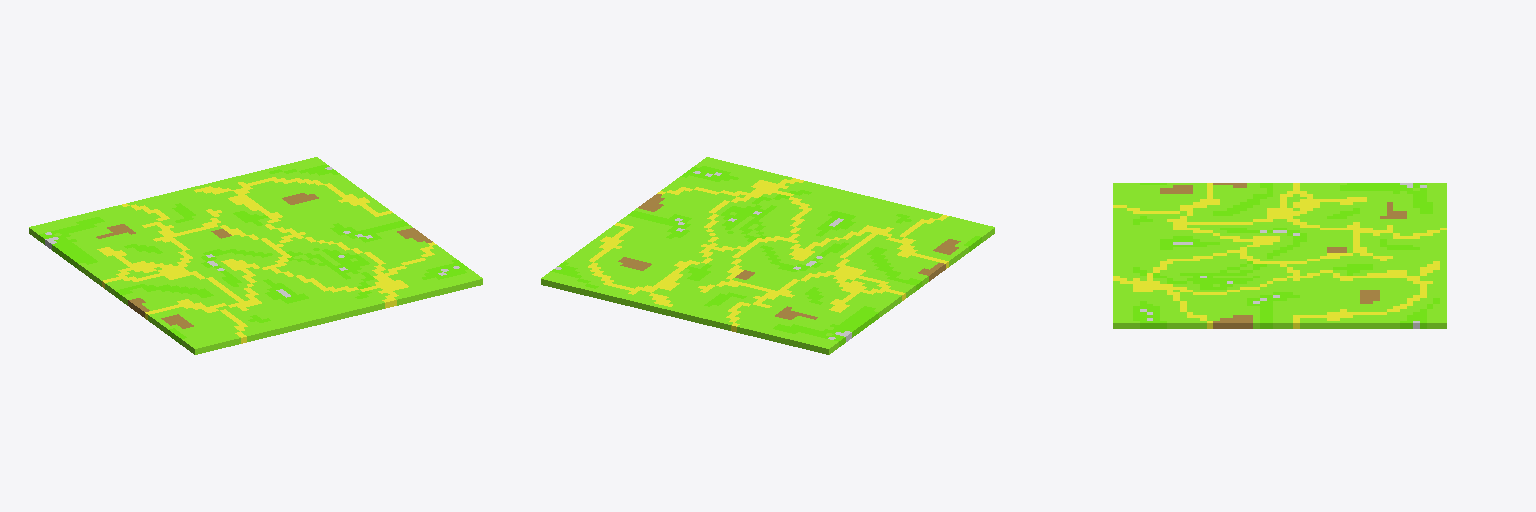
3 renders of one model, left to right at view 1: azimuth 30°, elevation 25°; view 2: azimuth 150°, elevation 25°; view 3: azimuth 270°, elevation 25°, orthographic.
Size of the model in its own units: 50 by 1 by 50.
1 materials, 1 textured.